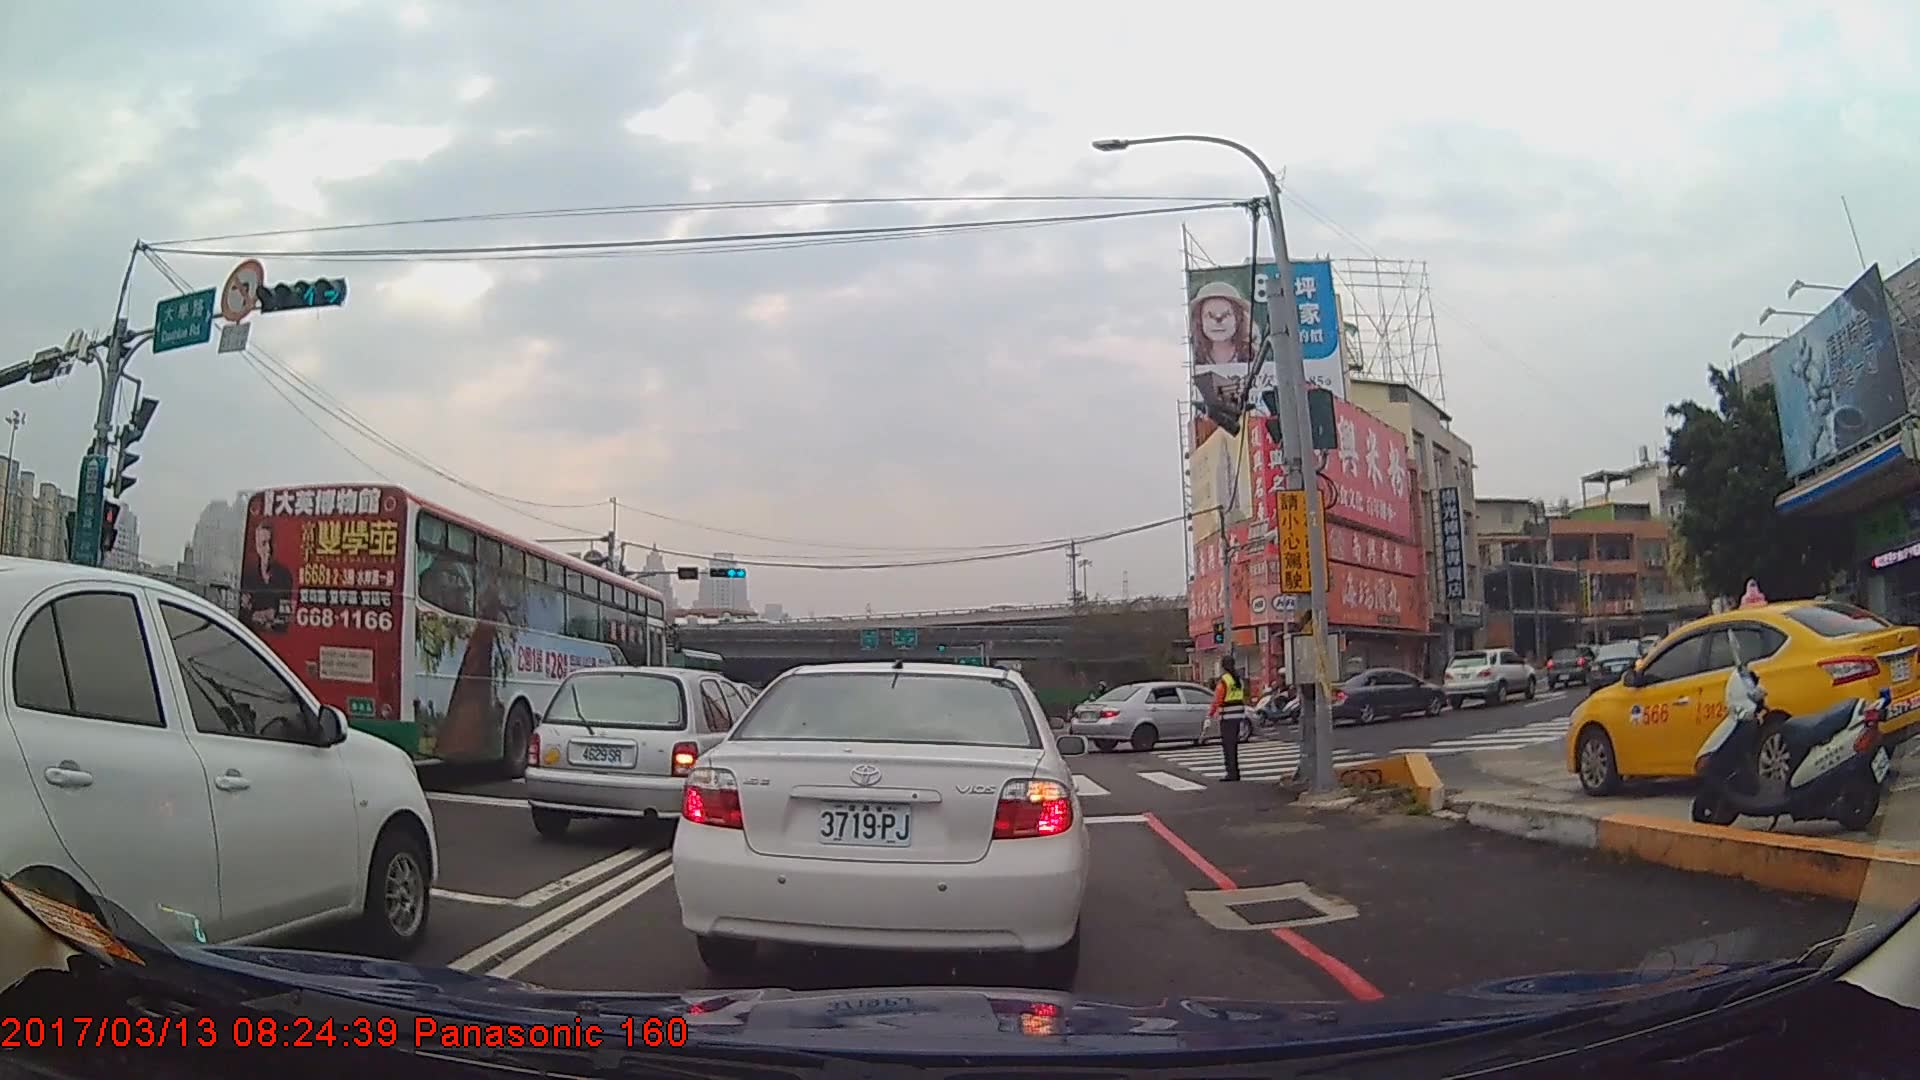pedestrian: (1209, 658, 1253, 785)
rider: (1253, 667, 1302, 725)
vehicle: (0, 550, 436, 1009), (230, 479, 674, 786), (672, 661, 1089, 984), (1561, 598, 1920, 797), (521, 664, 775, 843), (1068, 680, 1253, 751), (1318, 666, 1445, 726), (1443, 646, 1537, 708), (1586, 638, 1653, 700), (1547, 643, 1600, 689)
